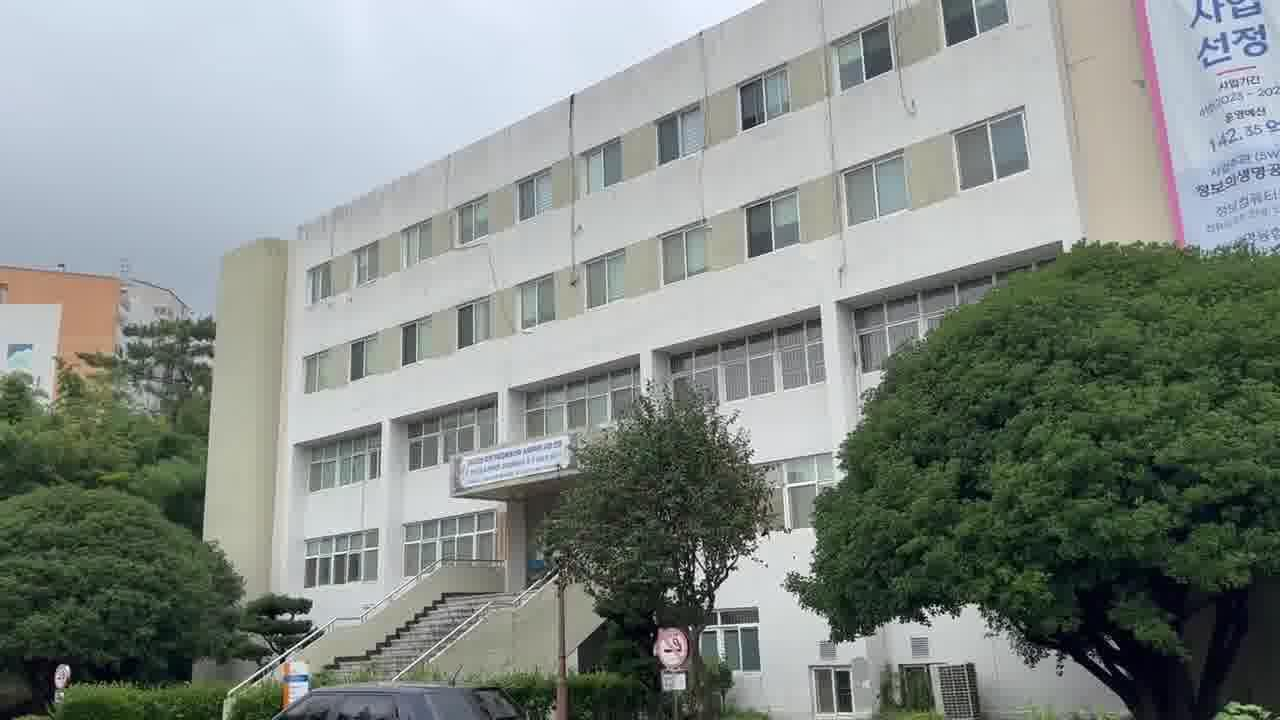building: (234, 54, 864, 393)
